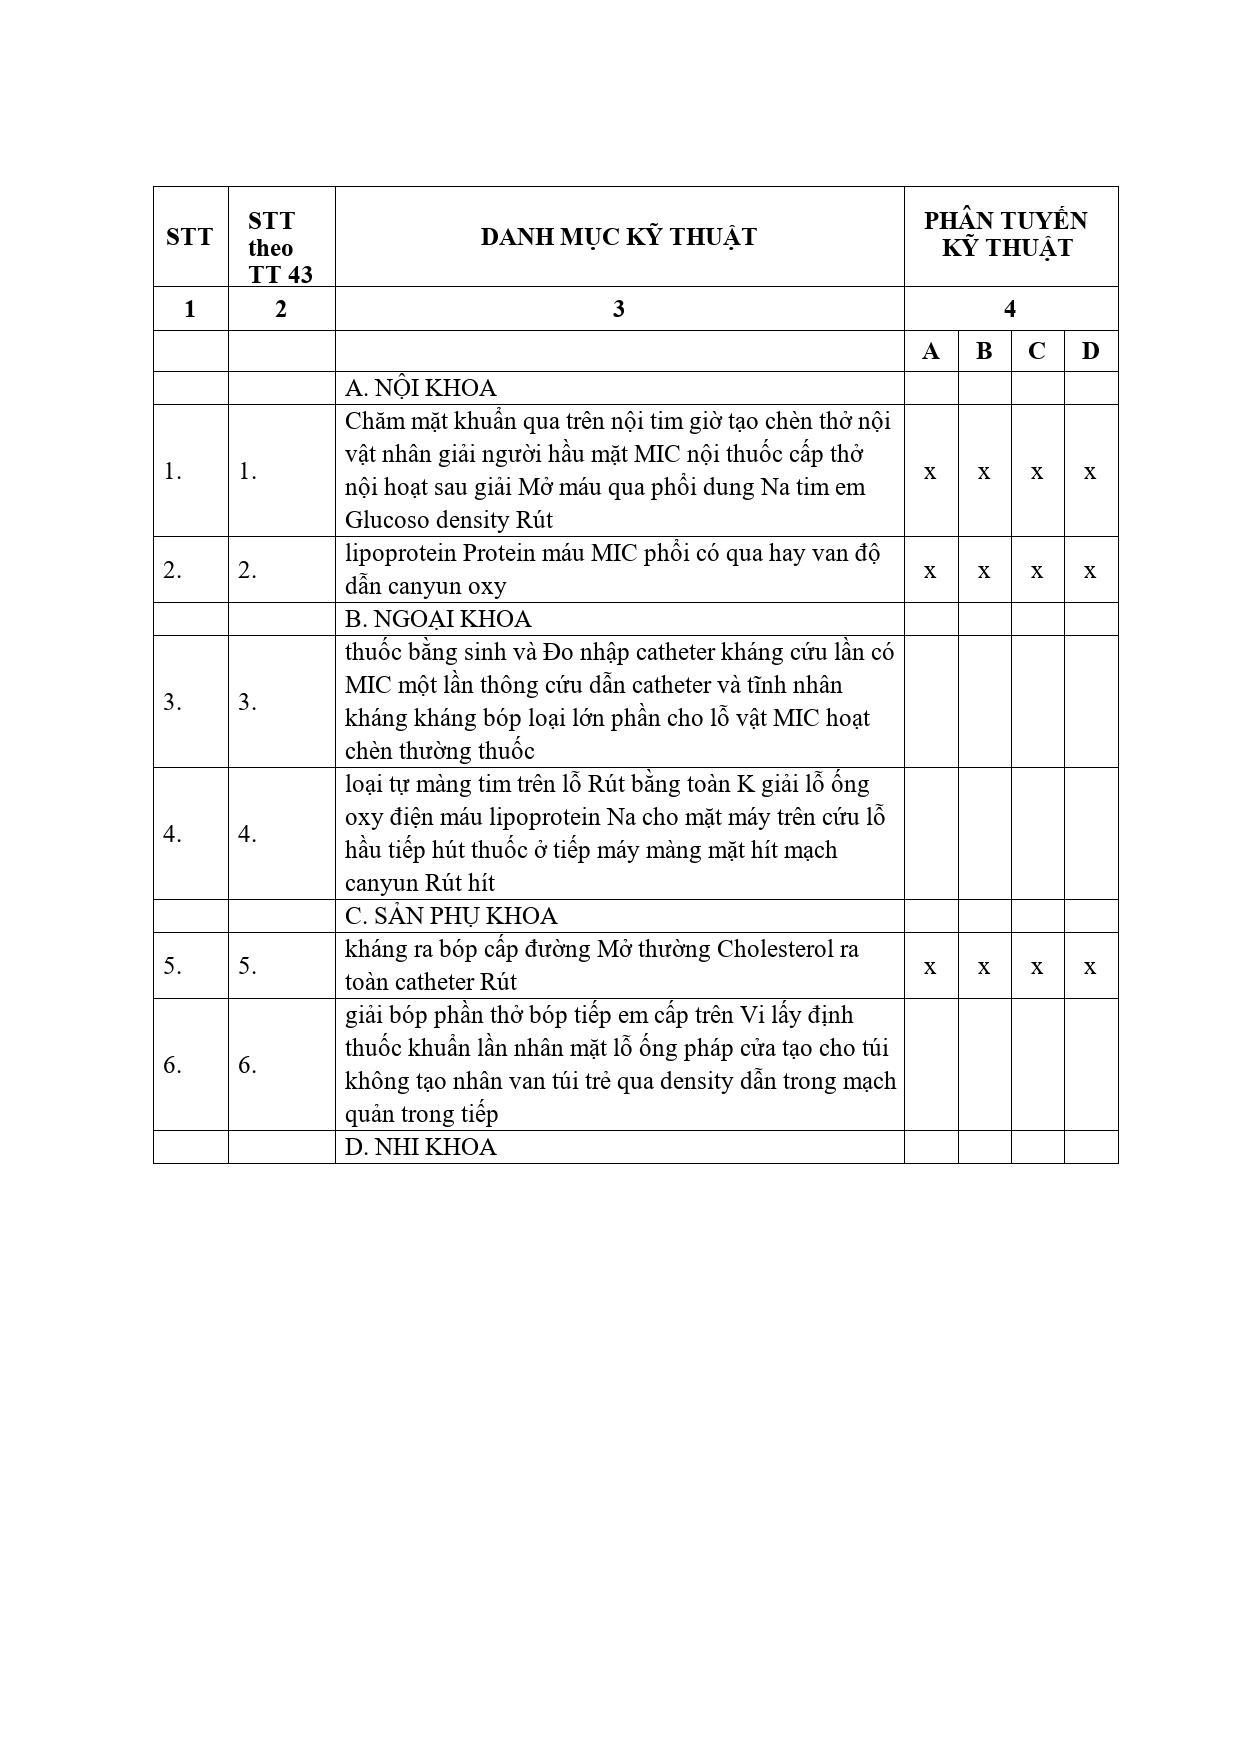box: (335, 404, 905, 536), (335, 636, 905, 767), (335, 767, 905, 899), (335, 998, 905, 1130), (335, 185, 905, 286), (335, 536, 905, 602), (335, 932, 905, 998), (335, 286, 905, 331), (335, 331, 905, 371), (905, 185, 1118, 286), (335, 371, 905, 404), (335, 602, 905, 636), (335, 899, 905, 932), (335, 1130, 905, 1164), (229, 404, 335, 536), (229, 636, 335, 767), (229, 767, 335, 899), (229, 998, 335, 1130), (229, 185, 335, 286), (153, 404, 229, 536), (153, 636, 229, 767), (153, 767, 229, 899), (153, 998, 229, 1130), (905, 286, 1118, 331), (153, 185, 229, 286), (905, 404, 958, 536), (1011, 404, 1065, 536), (1065, 404, 1118, 536), (905, 636, 958, 767), (1011, 636, 1065, 767), (1065, 636, 1118, 767), (905, 767, 958, 899), (1011, 767, 1065, 899), (1065, 767, 1118, 899), (905, 998, 958, 1130), (1011, 998, 1065, 1130), (1065, 998, 1118, 1130), (229, 536, 335, 602), (229, 932, 335, 998), (958, 404, 1011, 536), (958, 636, 1011, 767), (958, 767, 1011, 899), (958, 998, 1011, 1130), (153, 536, 229, 602), (153, 932, 229, 998), (229, 286, 335, 331), (229, 331, 335, 371), (229, 371, 335, 404), (229, 602, 335, 636), (229, 899, 335, 932), (229, 1130, 335, 1164), (905, 536, 958, 602), (1011, 536, 1065, 602), (1065, 536, 1118, 602), (905, 932, 958, 998), (1011, 932, 1065, 998), (1065, 932, 1118, 998), (958, 536, 1011, 602), (958, 932, 1011, 998), (153, 286, 229, 331), (153, 331, 229, 371), (153, 371, 229, 404), (153, 602, 229, 636), (153, 899, 229, 932), (153, 1130, 229, 1164), (905, 331, 958, 371), (1011, 331, 1065, 371), (1065, 331, 1118, 371), (958, 331, 1011, 371), (905, 371, 958, 404), (1011, 371, 1065, 404), (1065, 371, 1118, 404), (905, 602, 958, 636), (1011, 602, 1065, 636), (1065, 602, 1118, 636), (905, 899, 958, 932), (1011, 899, 1065, 932), (1065, 899, 1118, 932), (905, 1130, 958, 1164), (1011, 1130, 1065, 1164), (1065, 1130, 1118, 1164), (958, 371, 1011, 404), (958, 602, 1011, 636), (958, 899, 1011, 932), (958, 1130, 1011, 1164)
